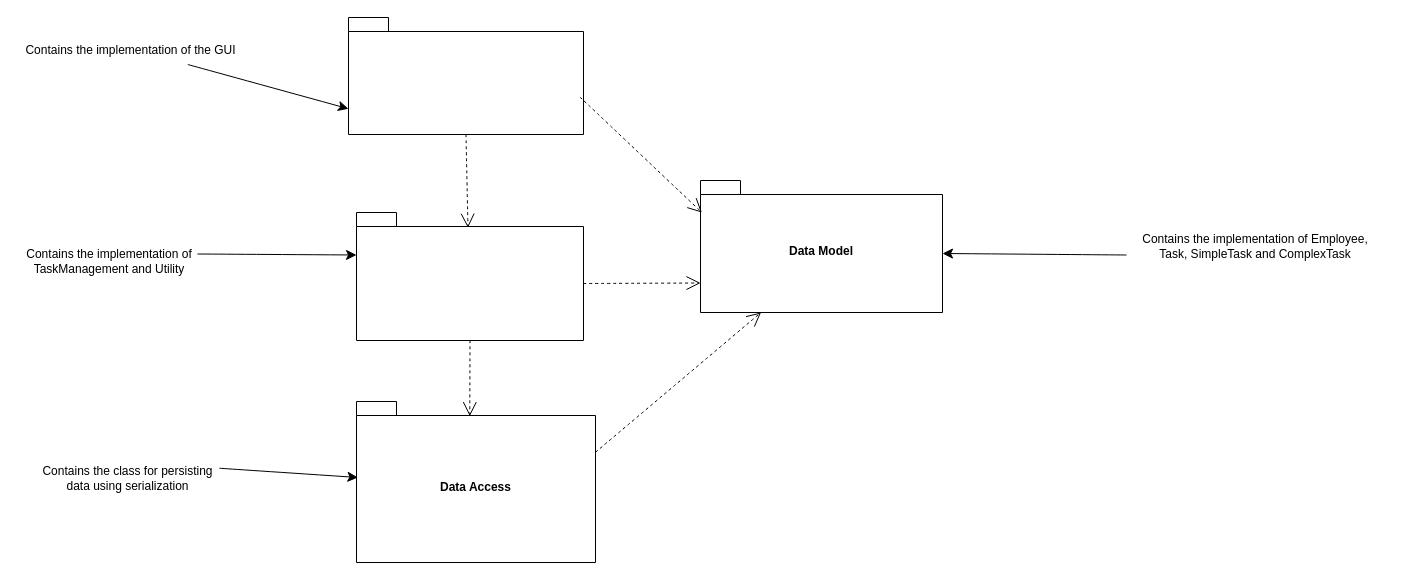
The diagram is 1401 pixels wide and 580 high, and some of its shapes have lost their labels. Here are the shapes that lost their labels. From the top down, the centre of each, then its label:
[466,75]: Graphical User Interface
[470,276]: Business Logic
